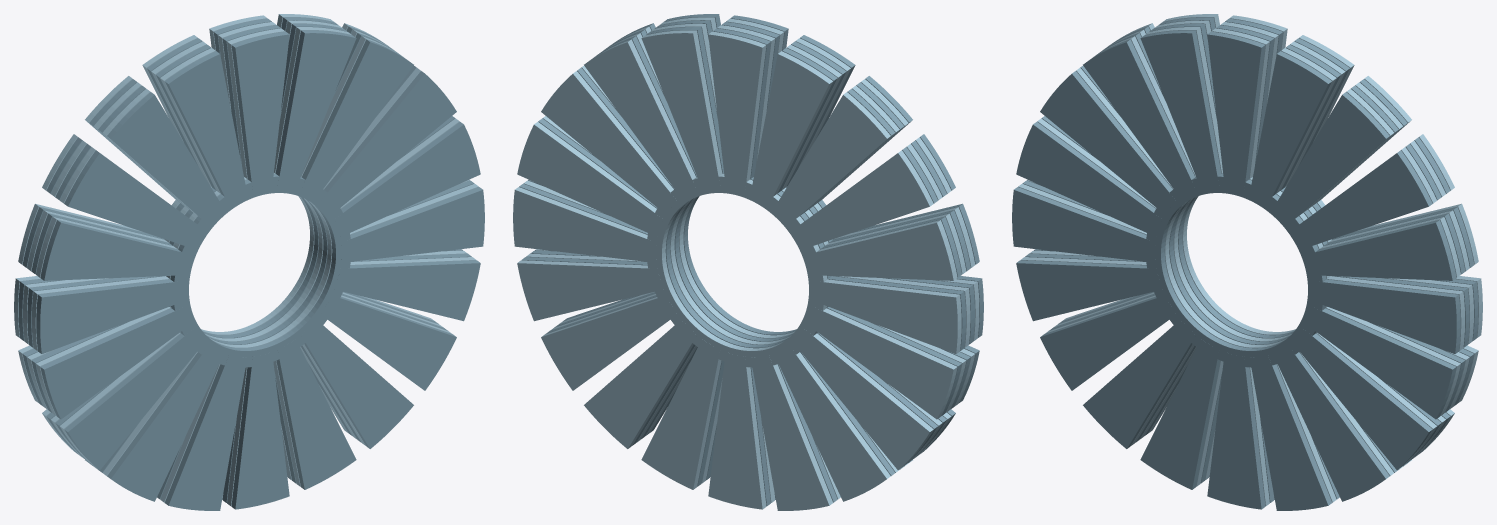
File: rotor_vcl_laminado.glb
3 views of the same model, side by side, from view 1: azimuth 30°, elevation 25°; view 2: azimuth 150°, elevation 25°; view 3: azimuth 330°, elevation 25° (orthographic).
Visible parts, largest first — view 1: lamina_05_capa_06, lamina_13_capa_06, lamina_04_capa_06, lamina_12_capa_06, lamina_14_capa_06, lamina_03_capa_06, lamina_15_capa_06, lamina_06_capa_06, lamina_02_capa_06, lamina_11_capa_06, lamina_16_capa_06, lamina_01_capa_06 (+42 smaller); view 2: lamina_05_capa_01, lamina_13_capa_01, lamina_04_capa_01, lamina_12_capa_01, lamina_14_capa_01, lamina_03_capa_01, lamina_15_capa_01, lamina_06_capa_01, lamina_02_capa_01, lamina_11_capa_01, lamina_16_capa_01, lamina_01_capa_01 (+42 smaller); view 3: lamina_07_capa_06, lamina_19_capa_06, lamina_08_capa_06, lamina_20_capa_06, lamina_18_capa_06, lamina_09_capa_06, lamina_17_capa_06, lamina_06_capa_06, lamina_10_capa_06, lamina_01_capa_06, lamina_16_capa_06, lamina_11_capa_06 (+42 smaller).
Part boxes in pixels (box(x1,y1,x2,y2)): lamina_05_capa_06: box(275, 30, 356, 188); lamina_13_capa_06: box(64, 329, 204, 469); lamina_04_capa_06: box(301, 39, 413, 197); lamina_12_capa_06: box(40, 307, 190, 419); lamina_14_capa_06: box(107, 346, 223, 501); lamina_03_capa_06: box(320, 71, 456, 214); lamina_15_capa_06: box(164, 355, 247, 510); lamina_06_capa_06: box(231, 31, 289, 191); lamina_02_capa_06: box(334, 122, 480, 236); lamina_11_capa_06: box(36, 279, 183, 353); lamina_16_capa_06: box(231, 352, 289, 509); lamina_01_capa_06: box(341, 187, 484, 262); lamina_05_capa_01: box(641, 30, 722, 188); lamina_13_capa_01: box(793, 329, 933, 469); lamina_04_capa_01: box(584, 39, 696, 197); lamina_12_capa_01: box(807, 307, 957, 419); lamina_14_capa_01: box(774, 346, 890, 501); lamina_03_capa_01: box(541, 71, 677, 214); lamina_15_capa_01: box(750, 355, 833, 510); lamina_06_capa_01: box(708, 31, 766, 191); lamina_02_capa_01: box(517, 122, 663, 236); lamina_11_capa_01: box(814, 279, 961, 353); lamina_16_capa_01: box(708, 352, 766, 509); lamina_01_capa_01: box(513, 187, 656, 262); lamina_07_capa_06: box(1140, 30, 1221, 188); lamina_19_capa_06: box(1292, 329, 1432, 469); lamina_08_capa_06: box(1083, 39, 1195, 197); lamina_20_capa_06: box(1306, 307, 1456, 419); lamina_18_capa_06: box(1273, 346, 1389, 501); lamina_09_capa_06: box(1040, 71, 1176, 214); lamina_17_capa_06: box(1249, 355, 1332, 510); lamina_06_capa_06: box(1207, 31, 1265, 191); lamina_10_capa_06: box(1016, 122, 1162, 236); lamina_01_capa_06: box(1313, 279, 1460, 353); lamina_16_capa_06: box(1207, 352, 1265, 509); lamina_11_capa_06: box(1012, 187, 1155, 262).
Size of the model in its own units: 5.5 by 5.5 by 0.559.
